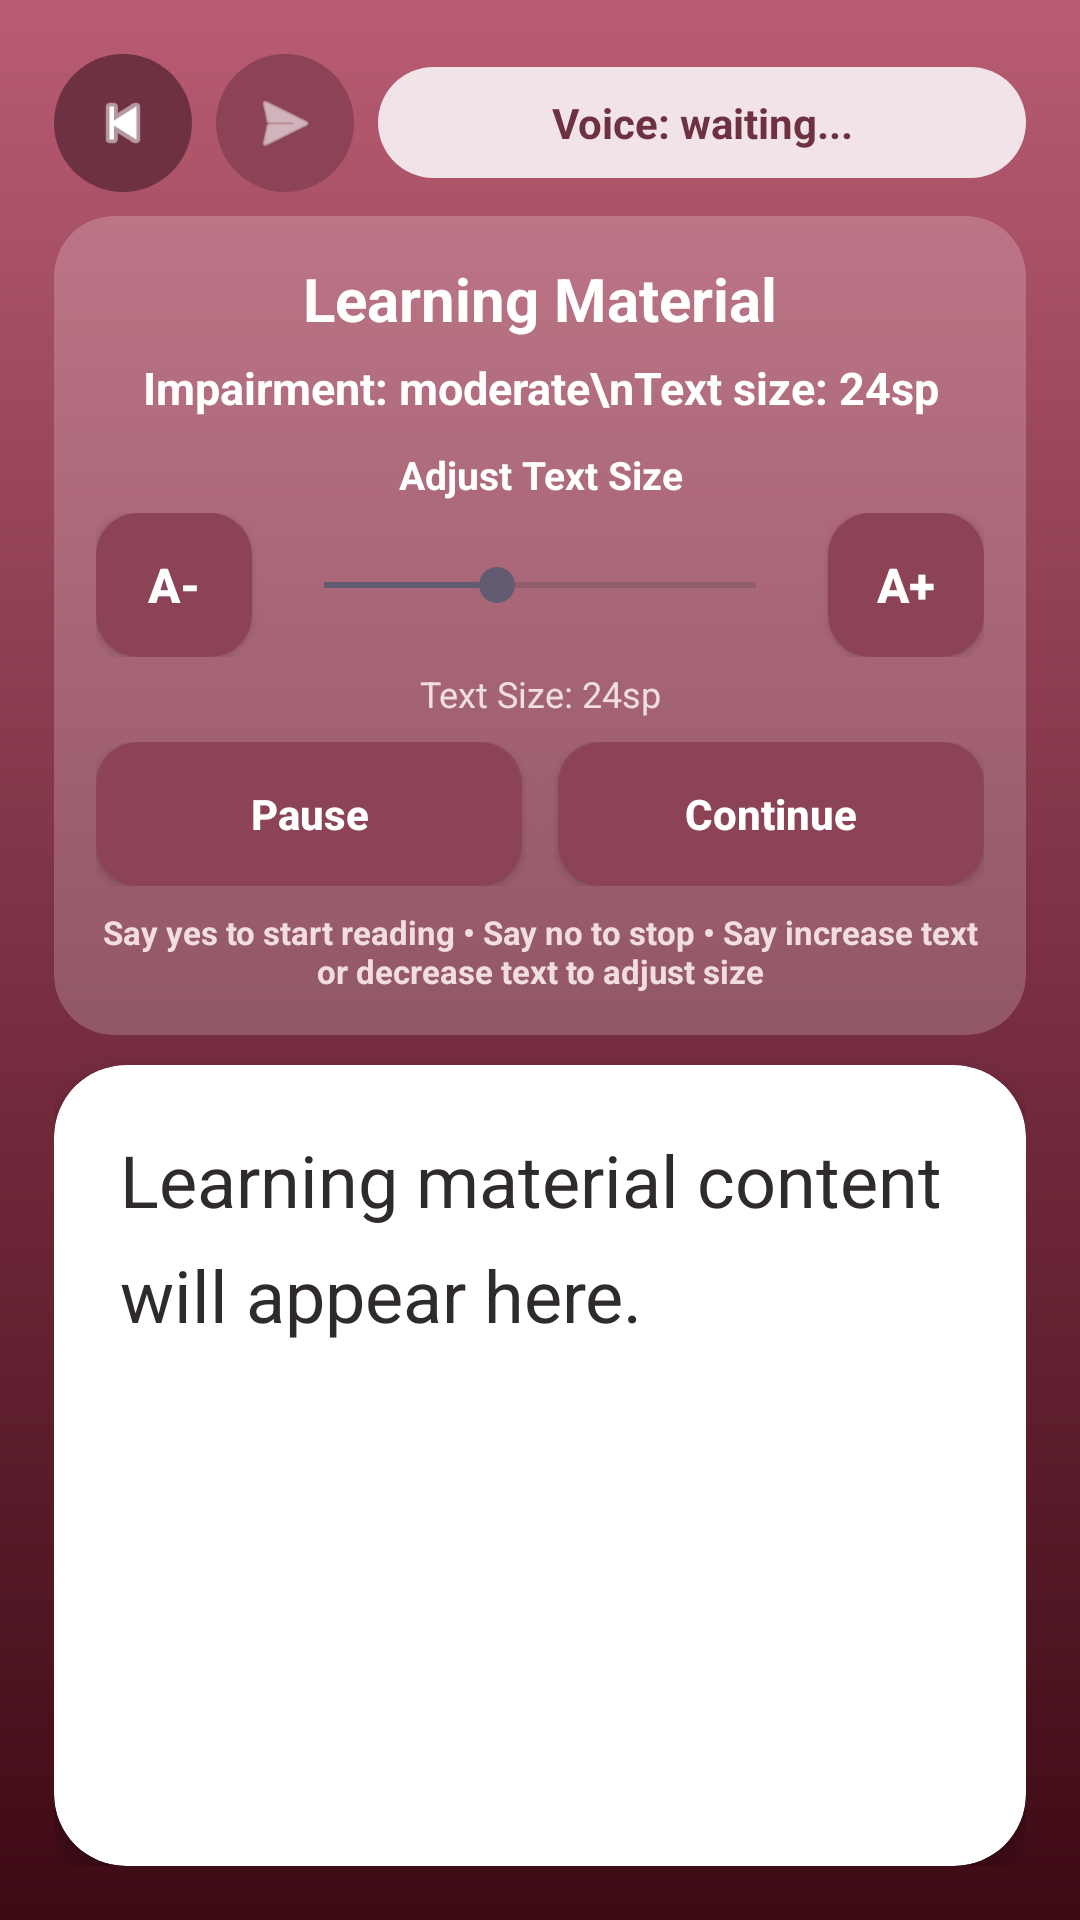

Screen size 1080 x 1920. Icon name, then its box in pixels as (x1, y1, x2, y2):
Back: (54, 54, 192, 192)
